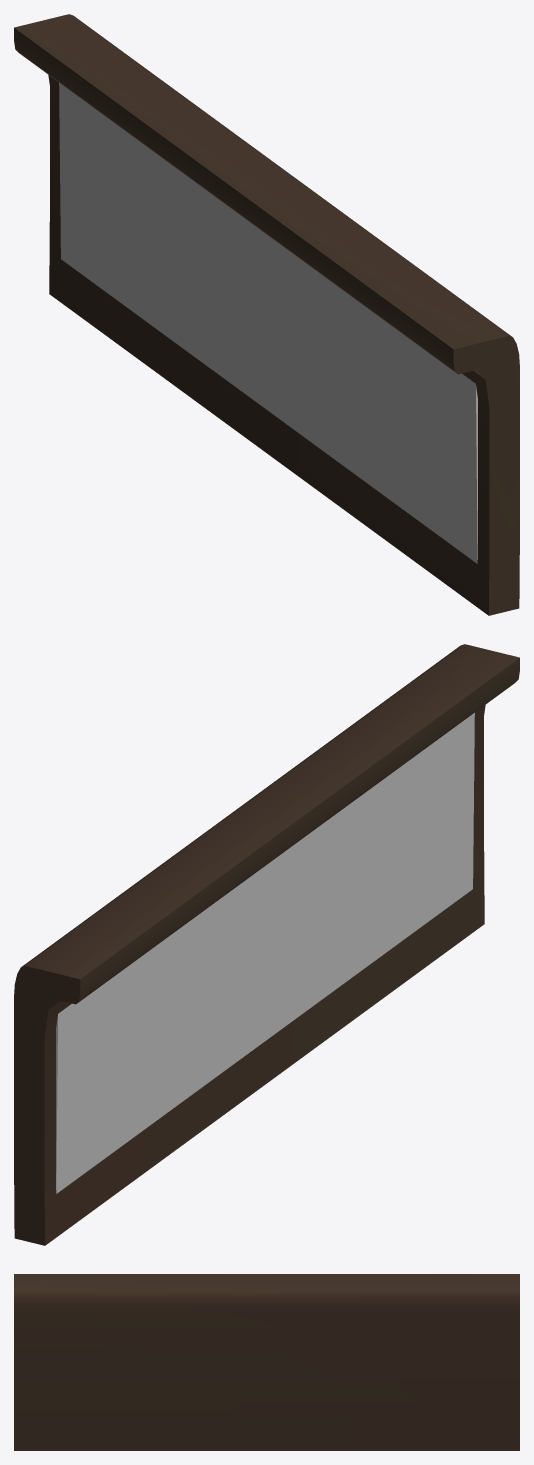
File: piano_lid.obj
The picture shows the model from 3 angles, top to bottom: view 1: azimuth 30°, elevation 25°; view 2: azimuth 150°, elevation 25°; view 3: azimuth 270°, elevation 25°; orthographic projection. The views are drawn at different scales.
Visible parts, largest first — view 1: piano_lid; view 2: piano_lid; view 3: piano_lid.
Boxes of the visible parts, x1,y1,x2,y2 form: piano_lid: [14, 14, 519, 615]; piano_lid: [14, 644, 519, 1245]; piano_lid: [14, 1274, 519, 1450].
Size of what is drawn, in the model's own units: 5.25 by 20.8 by 60.24.
Materials: 2 (1 with a texture image).
